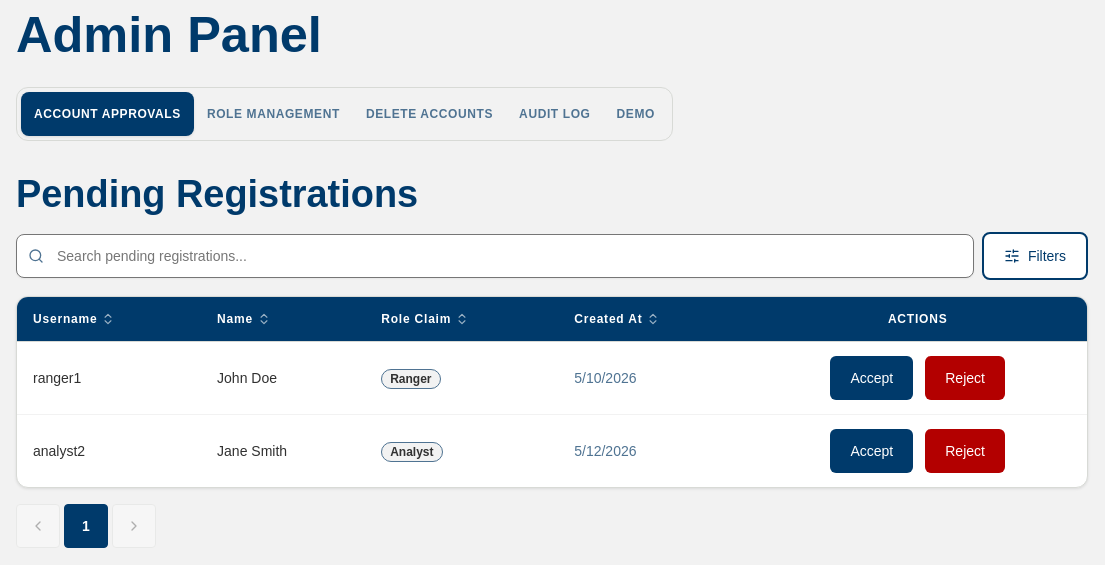
Test: AdminPage › switches to the demo tab and shows the reset button
Click the tab "Demo": (636, 114) [604,92,668,136]
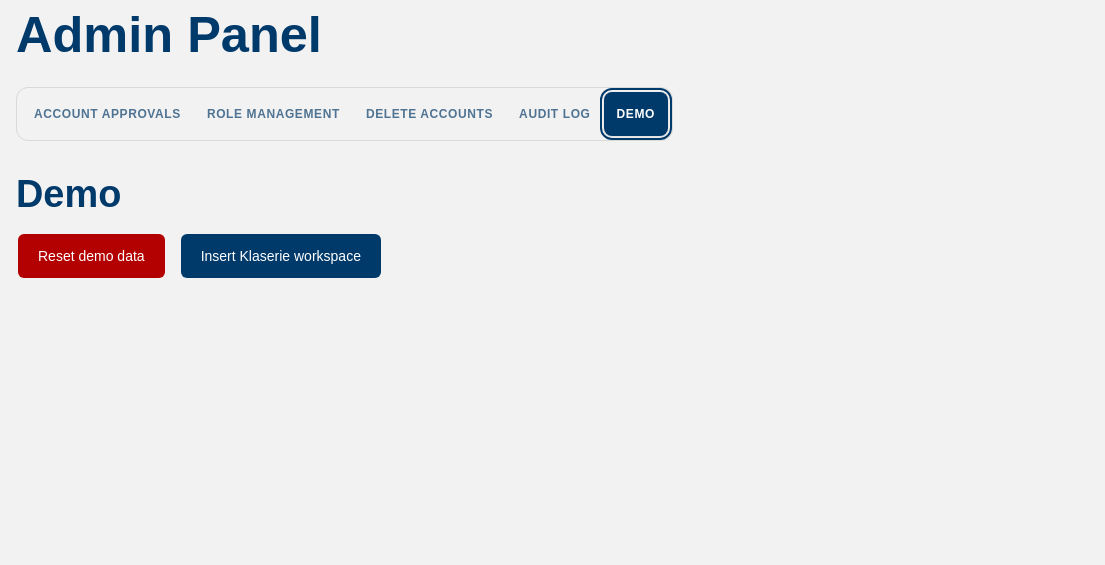
Expected: the button "Reset demo data" is shown, [16,232,167,280]
